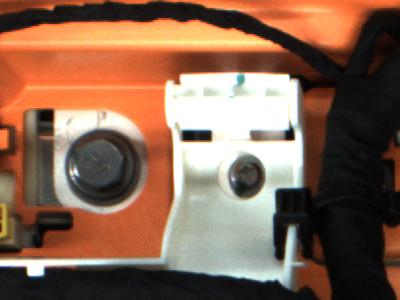nut_b: (55, 118, 159, 217)
